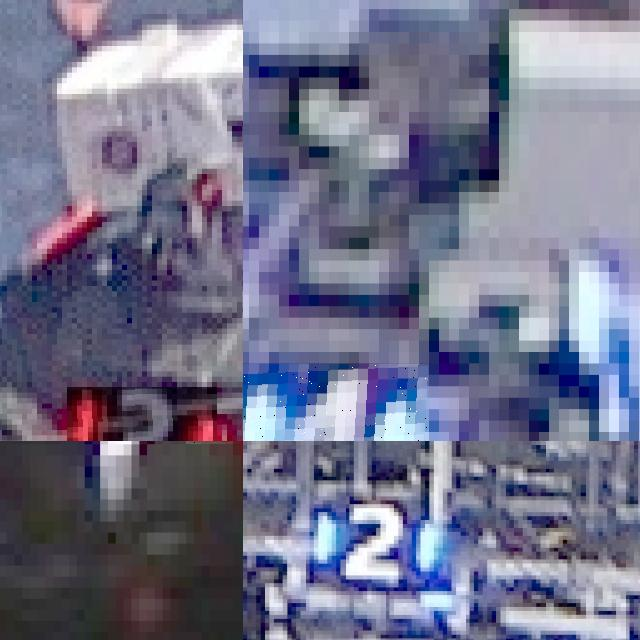B4: (243, 363, 429, 441)
R2: (292, 494, 447, 590)
R3: (67, 387, 217, 441)
